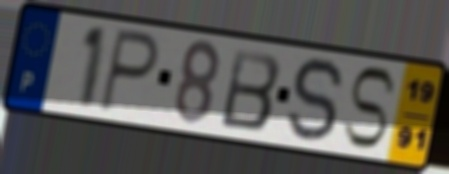1: (77, 24, 111, 110)
8: (173, 38, 221, 128)
B: (218, 46, 284, 133)
P: (96, 25, 163, 117)
S: (285, 55, 348, 146), (340, 64, 399, 152)
